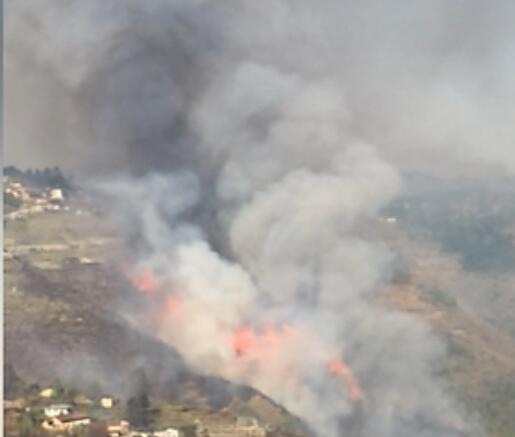yanwu: (1, 1, 485, 435)
